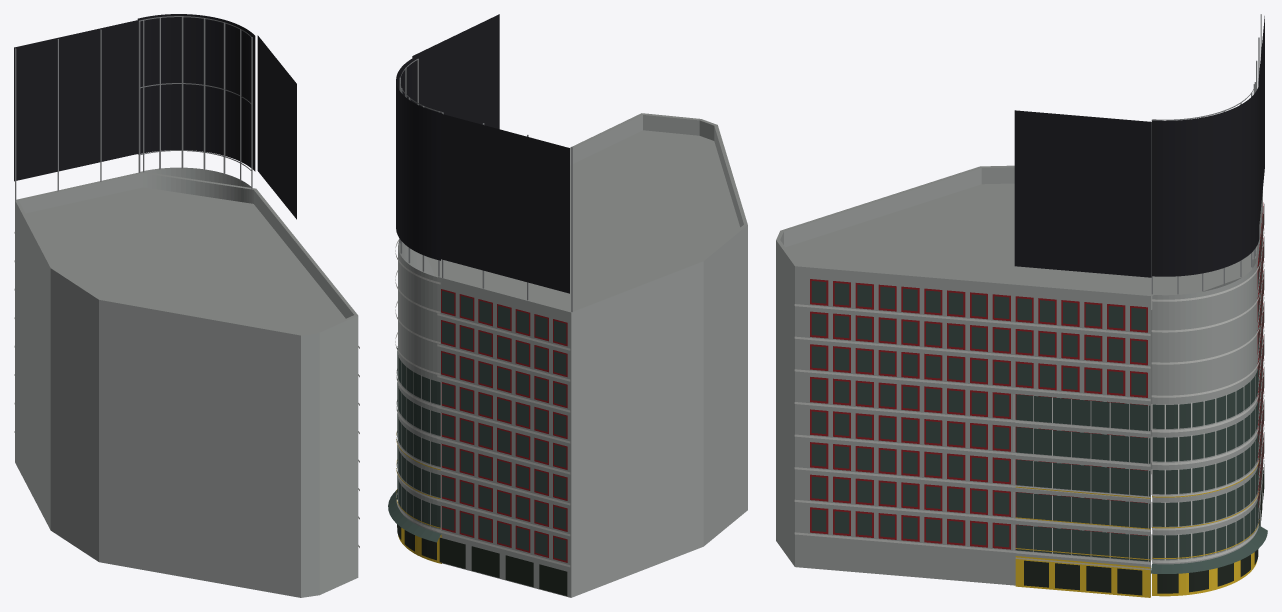
Rendered from ekimae.glb.
3 renders of one model, left to right at view 1: azimuth 30°, elevation 25°; view 2: azimuth 150°, elevation 25°; view 3: azimuth 270°, elevation 25°, orthographic. The views are drawn at different scales.
Visible parts, largest first — view 1: ek_wall, ek_screen_back, ek_roof, ek_steel; view 2: ek_wall, ek_screen_back, ek_roof, ek_glass, ek_red_frame, ek_band, ek_shop_glass, ek_steel; view 3: ek_wall, ek_glass, ek_screen_back, ek_roof, ek_red_frame, ek_band, ek_shop_glass, ek_yellow, ek_gold, ek_steel.
Part boxes in pixels (x1,y1,x2,y2): ek_wall: [15, 167, 358, 597]; ek_screen_back: [14, 14, 296, 219]; ek_roof: [15, 171, 357, 335]; ek_steel: [15, 16, 252, 200]; ek_wall: [398, 115, 747, 597]; ek_screen_back: [396, 14, 569, 293]; ek_roof: [426, 113, 747, 312]; ek_glass: [388, 290, 566, 560]; ek_red_frame: [441, 289, 567, 562]; ek_band: [395, 239, 570, 567]; ek_shop_glass: [397, 524, 567, 595]; ek_steel: [399, 58, 572, 311]; ek_wall: [776, 167, 1262, 596]; ek_glass: [811, 204, 1267, 573]; ek_screen_back: [1014, 16, 1264, 277]; ek_roof: [776, 165, 1257, 309]; ek_red_frame: [810, 202, 1263, 549]; ek_band: [794, 228, 1264, 564]; ek_shop_glass: [1024, 464, 1264, 595]; ek_yellow: [1015, 552, 1256, 597]; ek_gold: [1015, 458, 1259, 560]; ek_steel: [1151, 14, 1261, 294].
Size of the model in its own units: 30.26 by 49.62 by 46.46.
